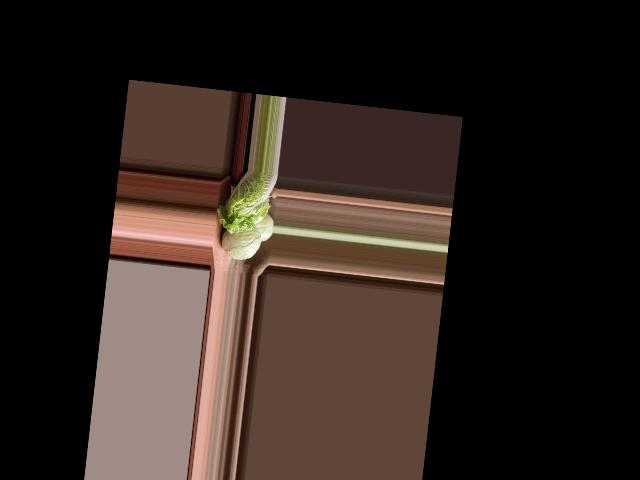lettuce: (213, 168, 275, 237)
